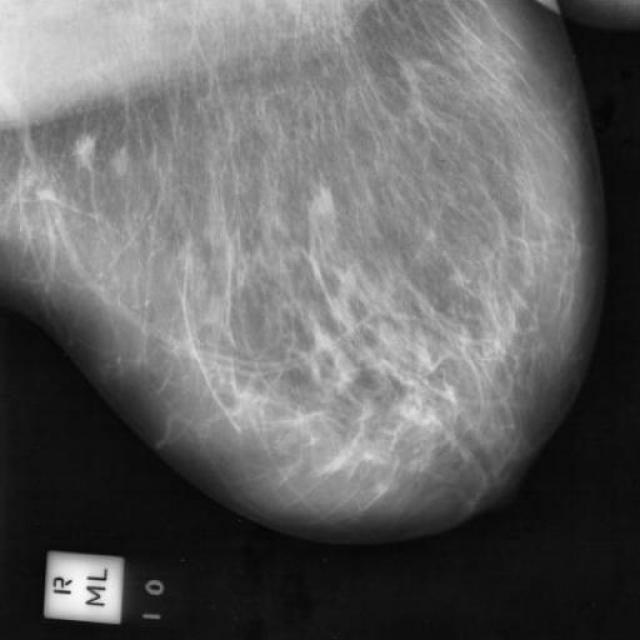cancer: (301, 176, 345, 239), (70, 123, 106, 172)
